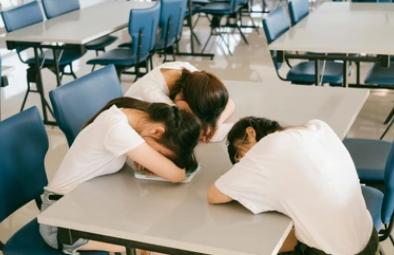sleep: (209, 115, 359, 212), (58, 100, 200, 193), (143, 63, 234, 139)
